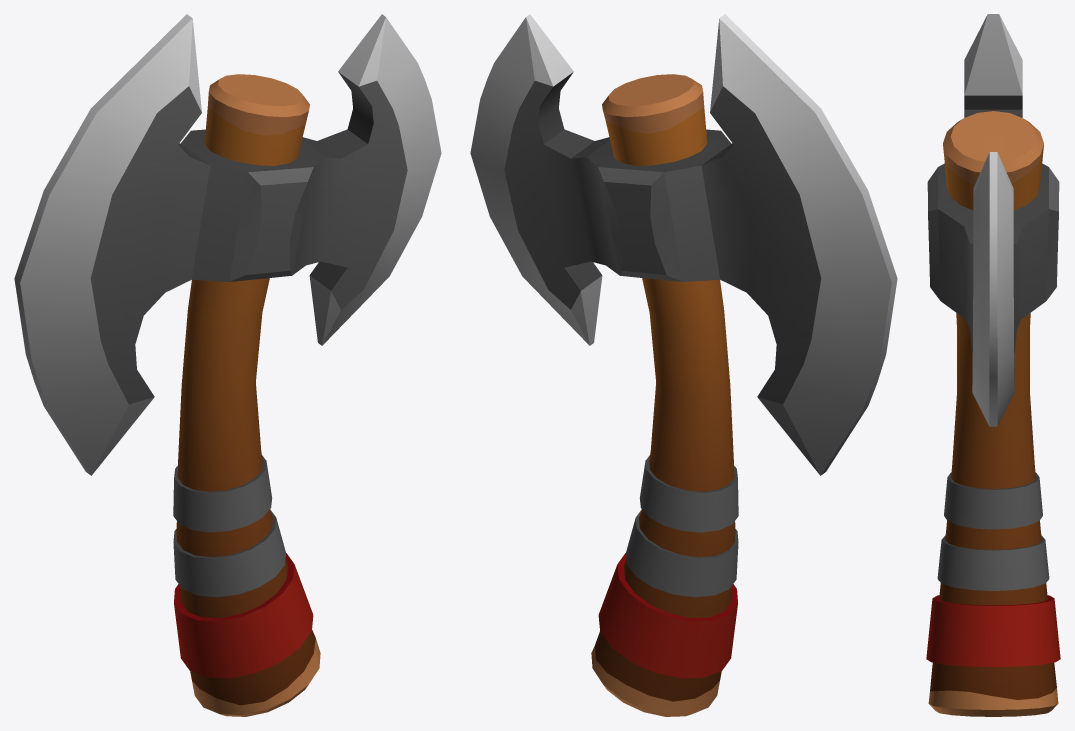
The model's file is Axe.glb.
3 views of the same model, side by side, from view 1: azimuth 30°, elevation 25°; view 2: azimuth 150°, elevation 25°; view 3: azimuth 270°, elevation 25° (orthographic). The views are drawn at different scales.
Visible parts, largest first — view 1: Axe.001; view 2: Axe.001; view 3: Axe.001.
Boxes of the visible parts, x1=… form: Axe.001: x1=14, y1=14, x2=441, y2=716; Axe.001: x1=470, y1=14, x2=897, y2=716; Axe.001: x1=926, y1=14, x2=1060, y2=716.
Bounding box in the file's own units: 0.8098 × 1.28 × 0.229.
1 material, 1 textured.
